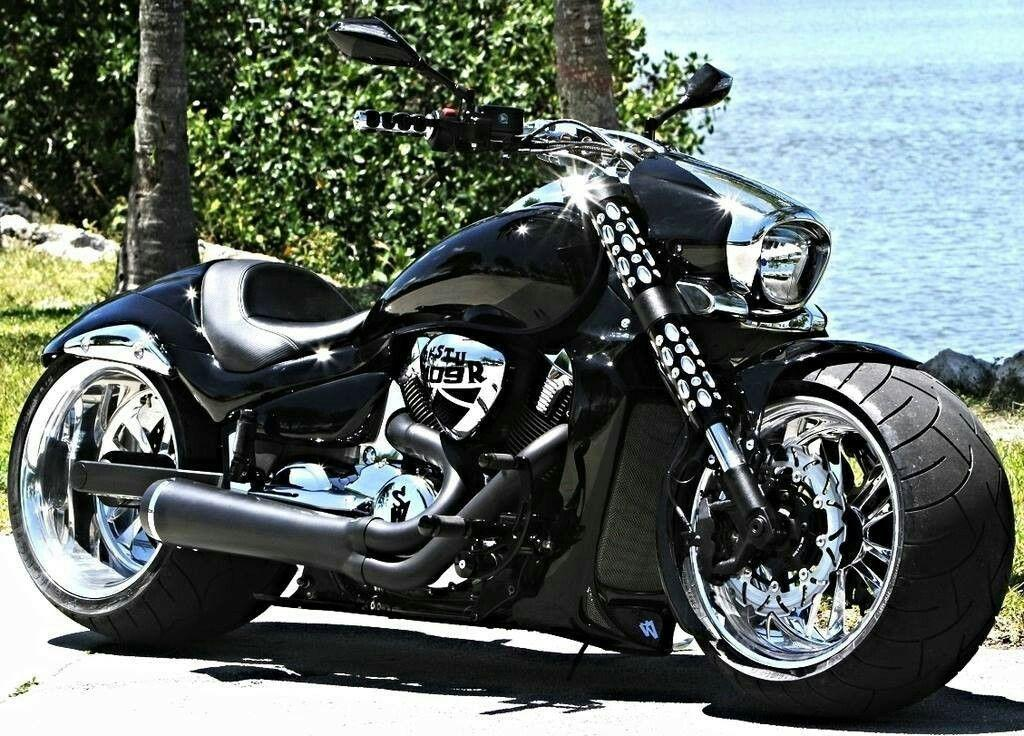Motorcycle: (3, 104, 988, 703)
